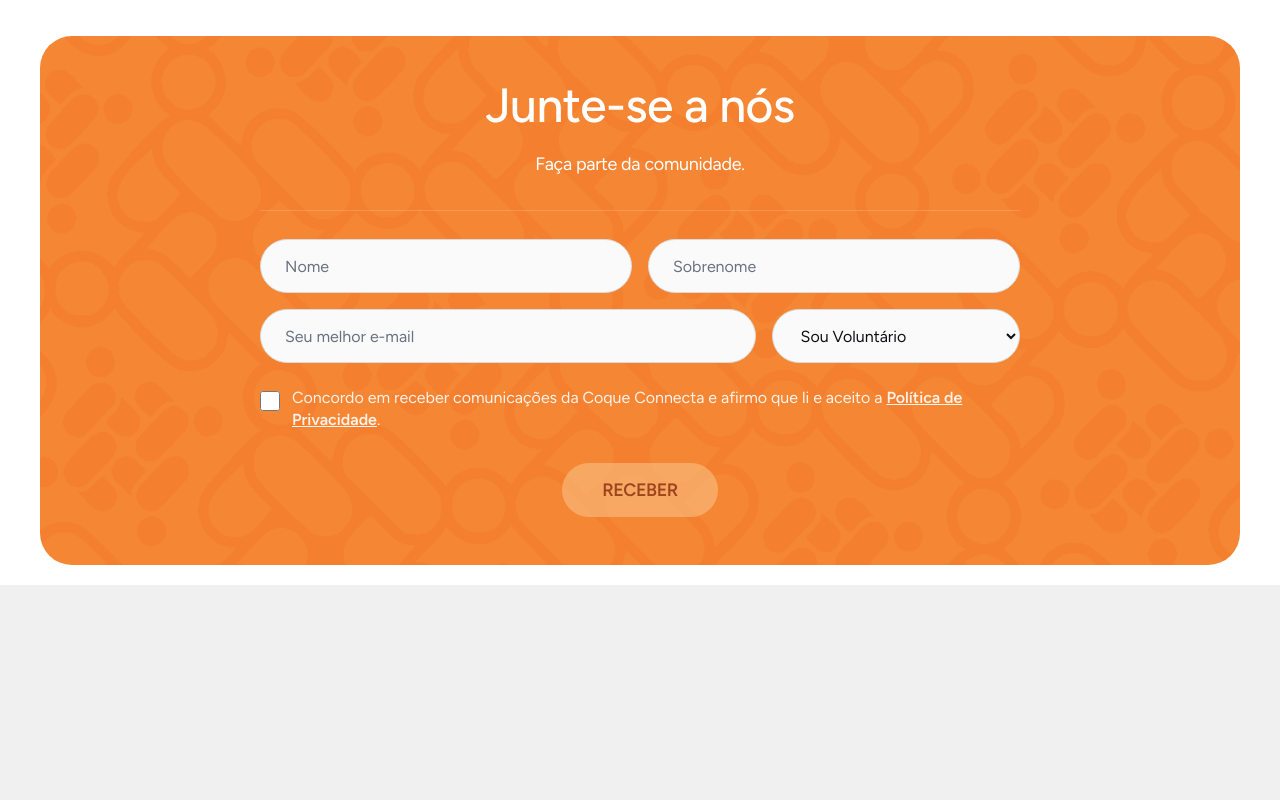
Test: NewsletterSection › submits the form data and shows the success state
In the field labelled "Nome": [446, 266] box [260,239,632,293], type "Ana"
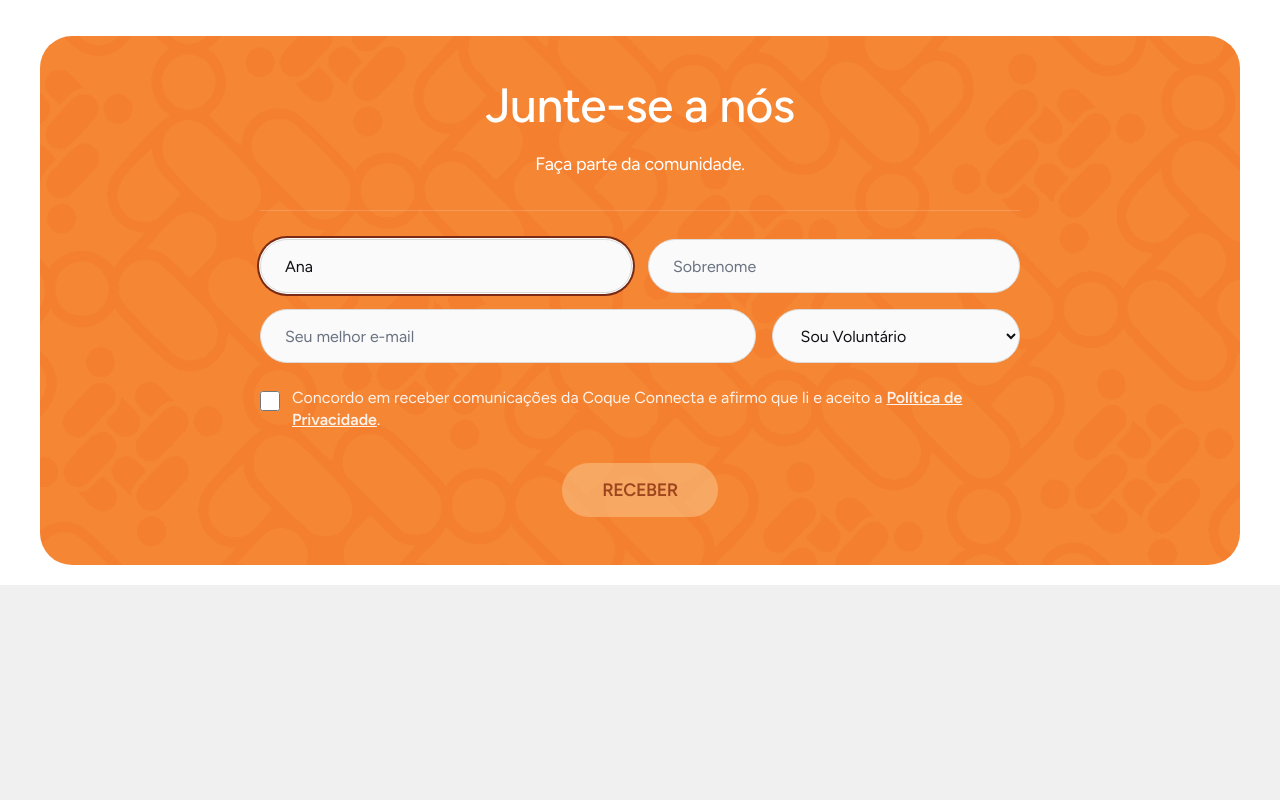
In the field labelled "Sobrenome": [834, 266] box [648,239,1020,293], type "Silva"
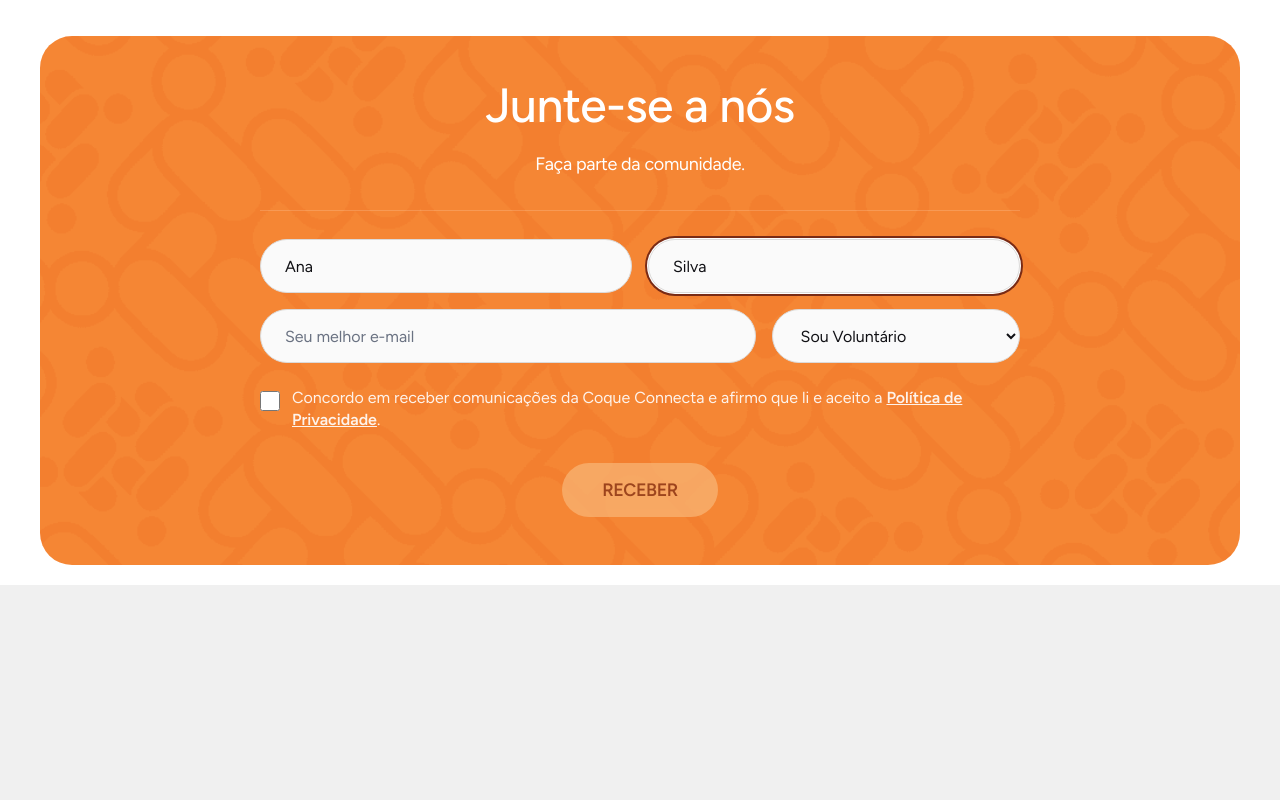
In the field labelled "e-mail": [508, 336] box [260,309,756,363], type "ana@example.com"
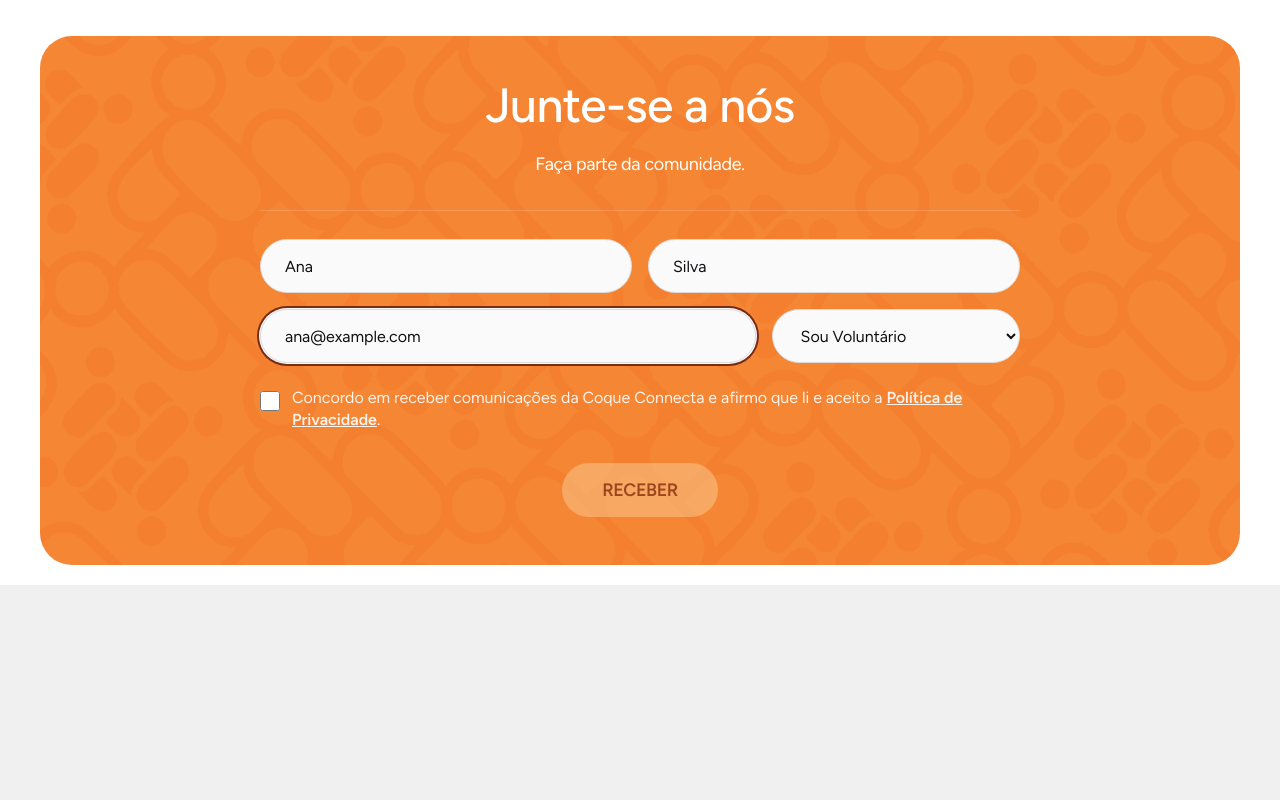
Select "Sou Doador" in the dropdown named "Tipo de participante": [896, 336] box [772,309,1020,363]
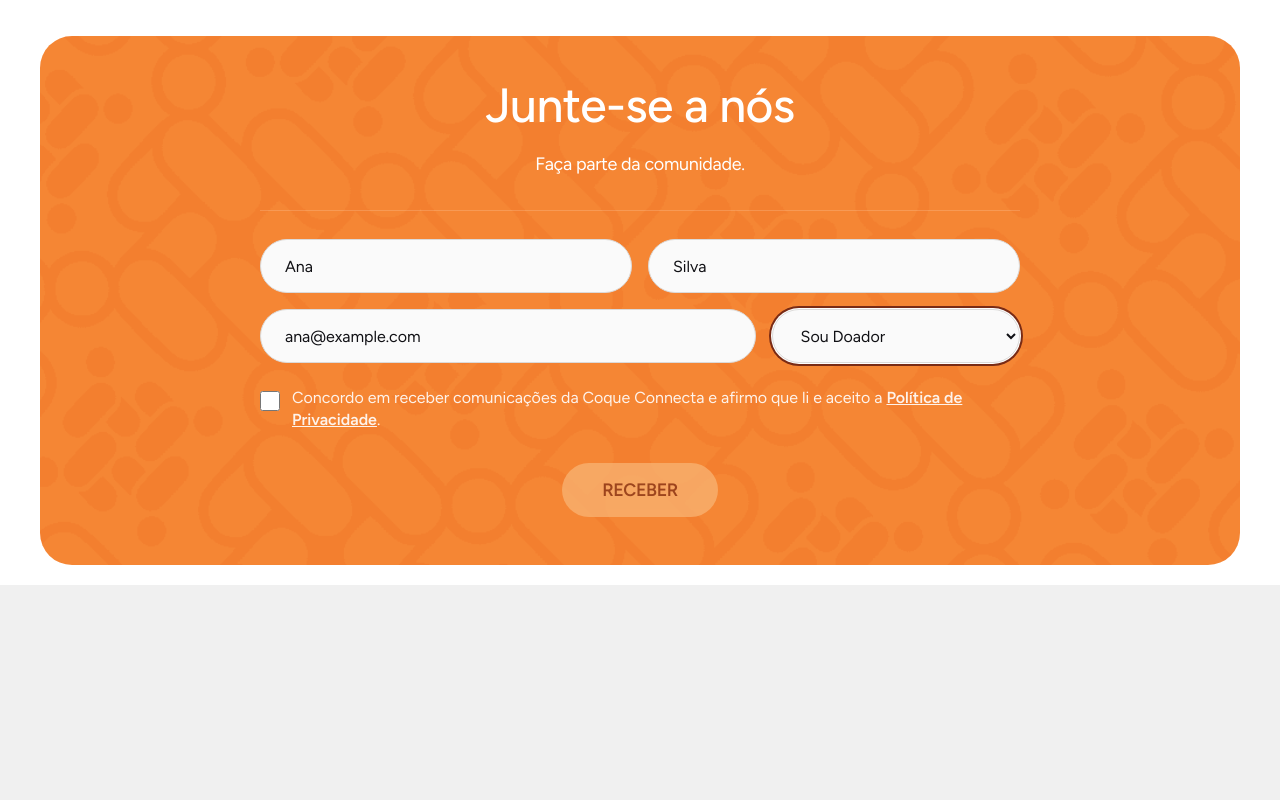
Click the checkbox: [270, 401] box [260,391,280,411]
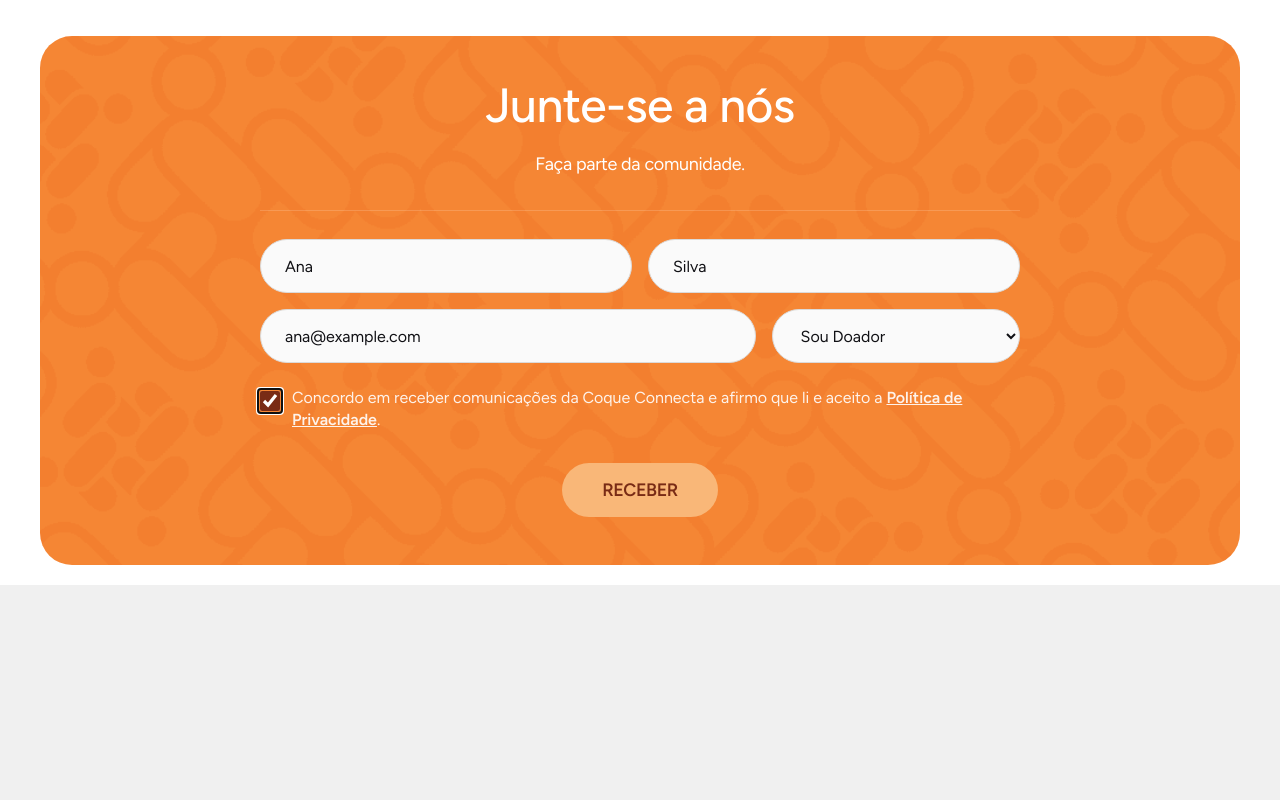
Click the button "RECEBER": [640, 490] box [562,463,718,517]
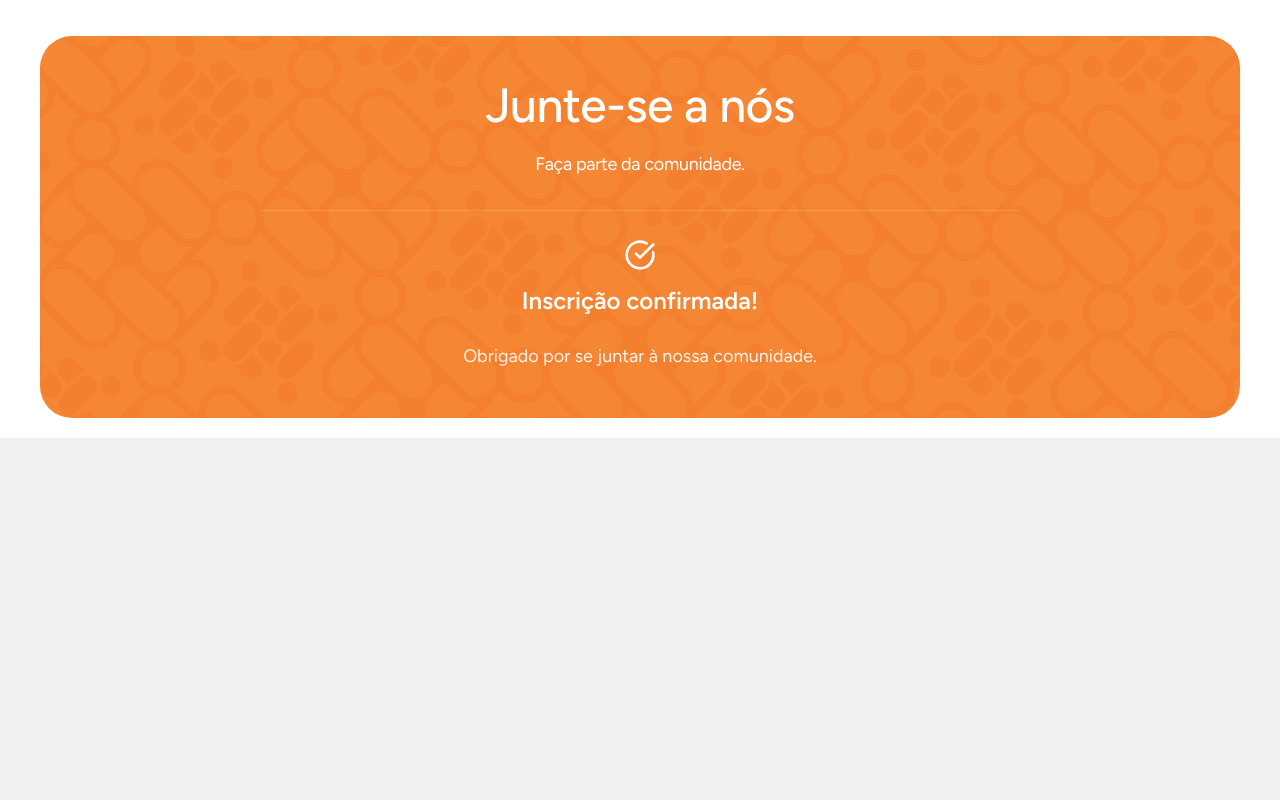
Now the text "Inscrição confirmada!" is shown, box [522,283,758,319]
